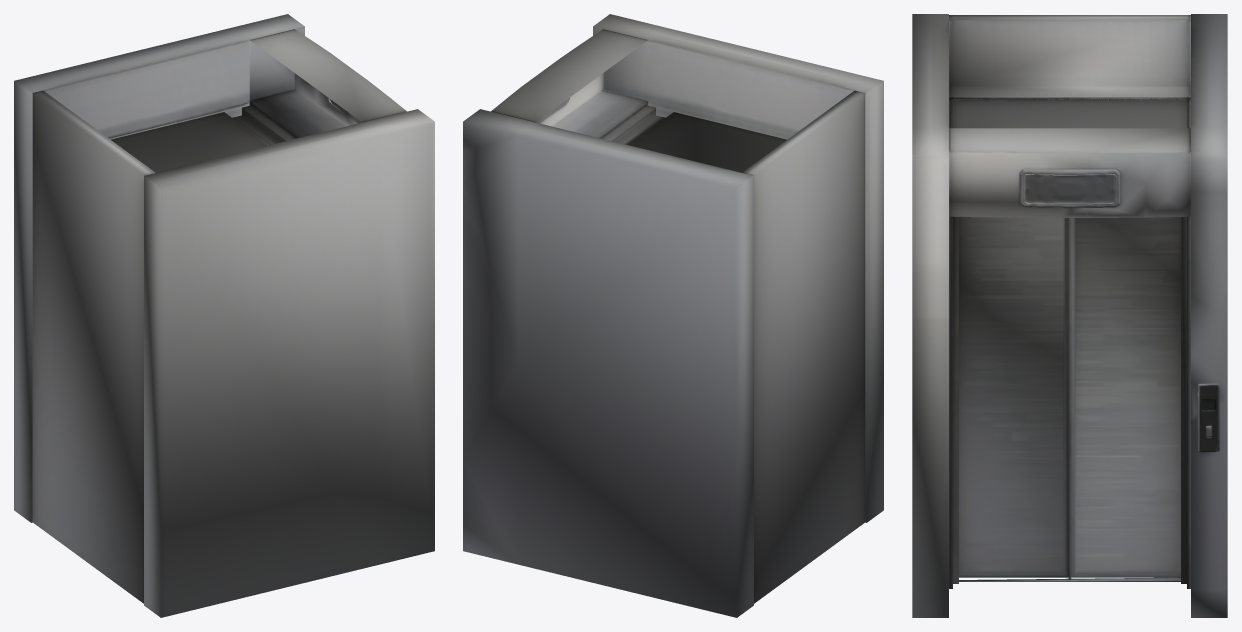
File: elevator-doors.glb
3 renders of one model, left to right at view 1: azimuth 30°, elevation 25°; view 2: azimuth 150°, elevation 25°; view 3: azimuth 270°, elevation 25°, orthographic. The views are drawn at different scales.
Visible parts, largest first — view 1: tripo_node_kodyurd-model-17____________________; view 2: tripo_node_kodyurd-model-17____________________; view 3: tripo_node_kodyurd-model-17____________________.
Part boxes in pixels (bbox=[...]): tripo_node_kodyurd-model-17____________________: bbox=[14, 14, 434, 617]; tripo_node_kodyurd-model-17____________________: bbox=[463, 14, 883, 617]; tripo_node_kodyurd-model-17____________________: bbox=[912, 14, 1227, 617].
Size of the model in its own units: 0.6738 by 0.998 by 0.6191.
Materials: 1 (1 with a texture image).
